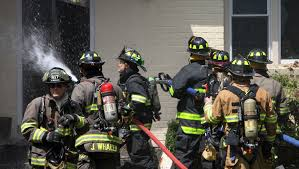emergent: (69, 50, 125, 169), (218, 58, 266, 169), (117, 48, 160, 169), (21, 70, 69, 169), (174, 34, 207, 169)
